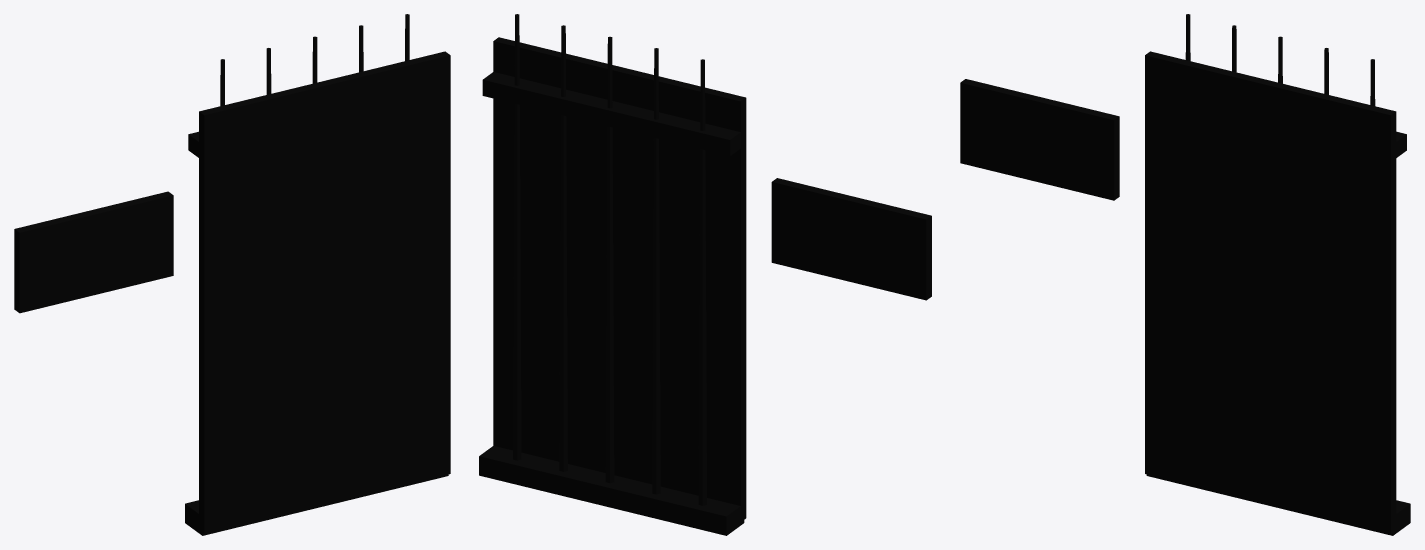
File: SM_cue_rack.fbx
3 renders of one model, left to right at view 1: azimuth 30°, elevation 25°; view 2: azimuth 150°, elevation 25°; view 3: azimuth 330°, elevation 25°, orthographic.
Visible parts, largest first — view 1: cue_rack; view 2: cue_rack; view 3: cue_rack.
Boxes of the visible parts, x1,y1,x2,y2 form: cue_rack: (14,14,450,535); cue_rack: (479,14,931,535); cue_rack: (960,14,1410,535).
Bounding box in the file's own units: 1.4 × 1.43 × 0.11.
